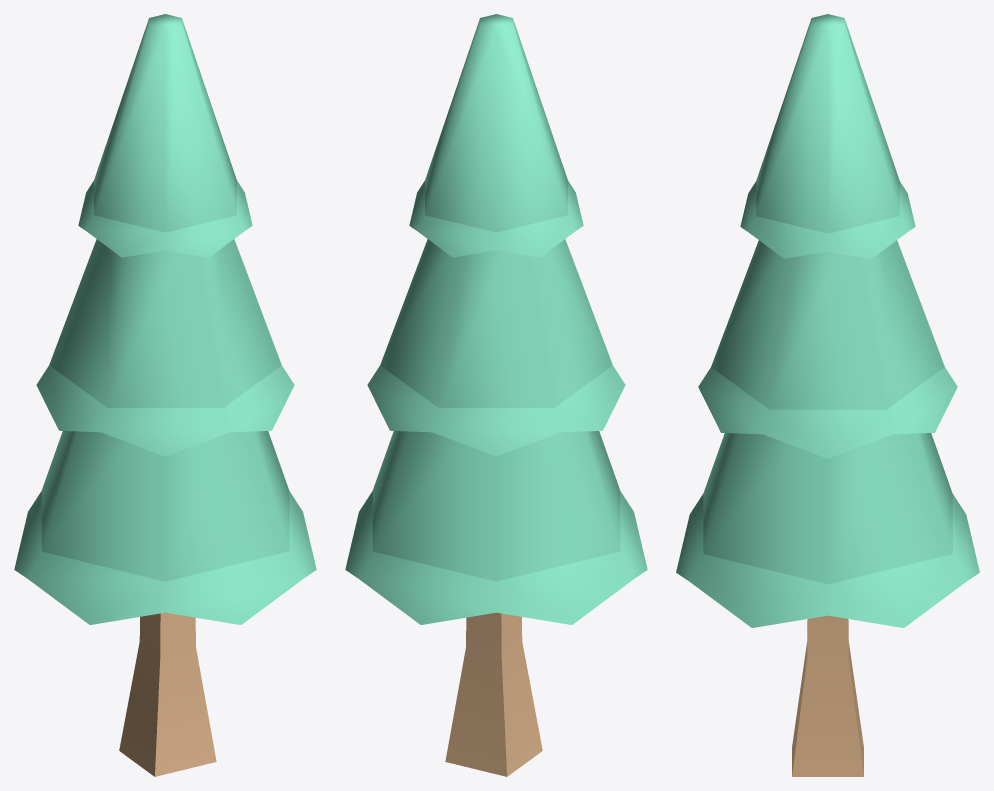
Rendered from tree.fbx.
3 renders of one model, left to right at view 1: azimuth 30°, elevation 25°; view 2: azimuth 150°, elevation 25°; view 3: azimuth 270°, elevation 25°, orthographic.
Visible parts, largest first — view 1: tree; view 2: tree; view 3: tree.
Boxes of the visible parts, x1,y1,x2,y2 form: tree: (14, 14, 316, 776); tree: (345, 14, 647, 776); tree: (676, 14, 979, 776).
Size of the model in its own units: 55.29 by 141 by 52.62.
